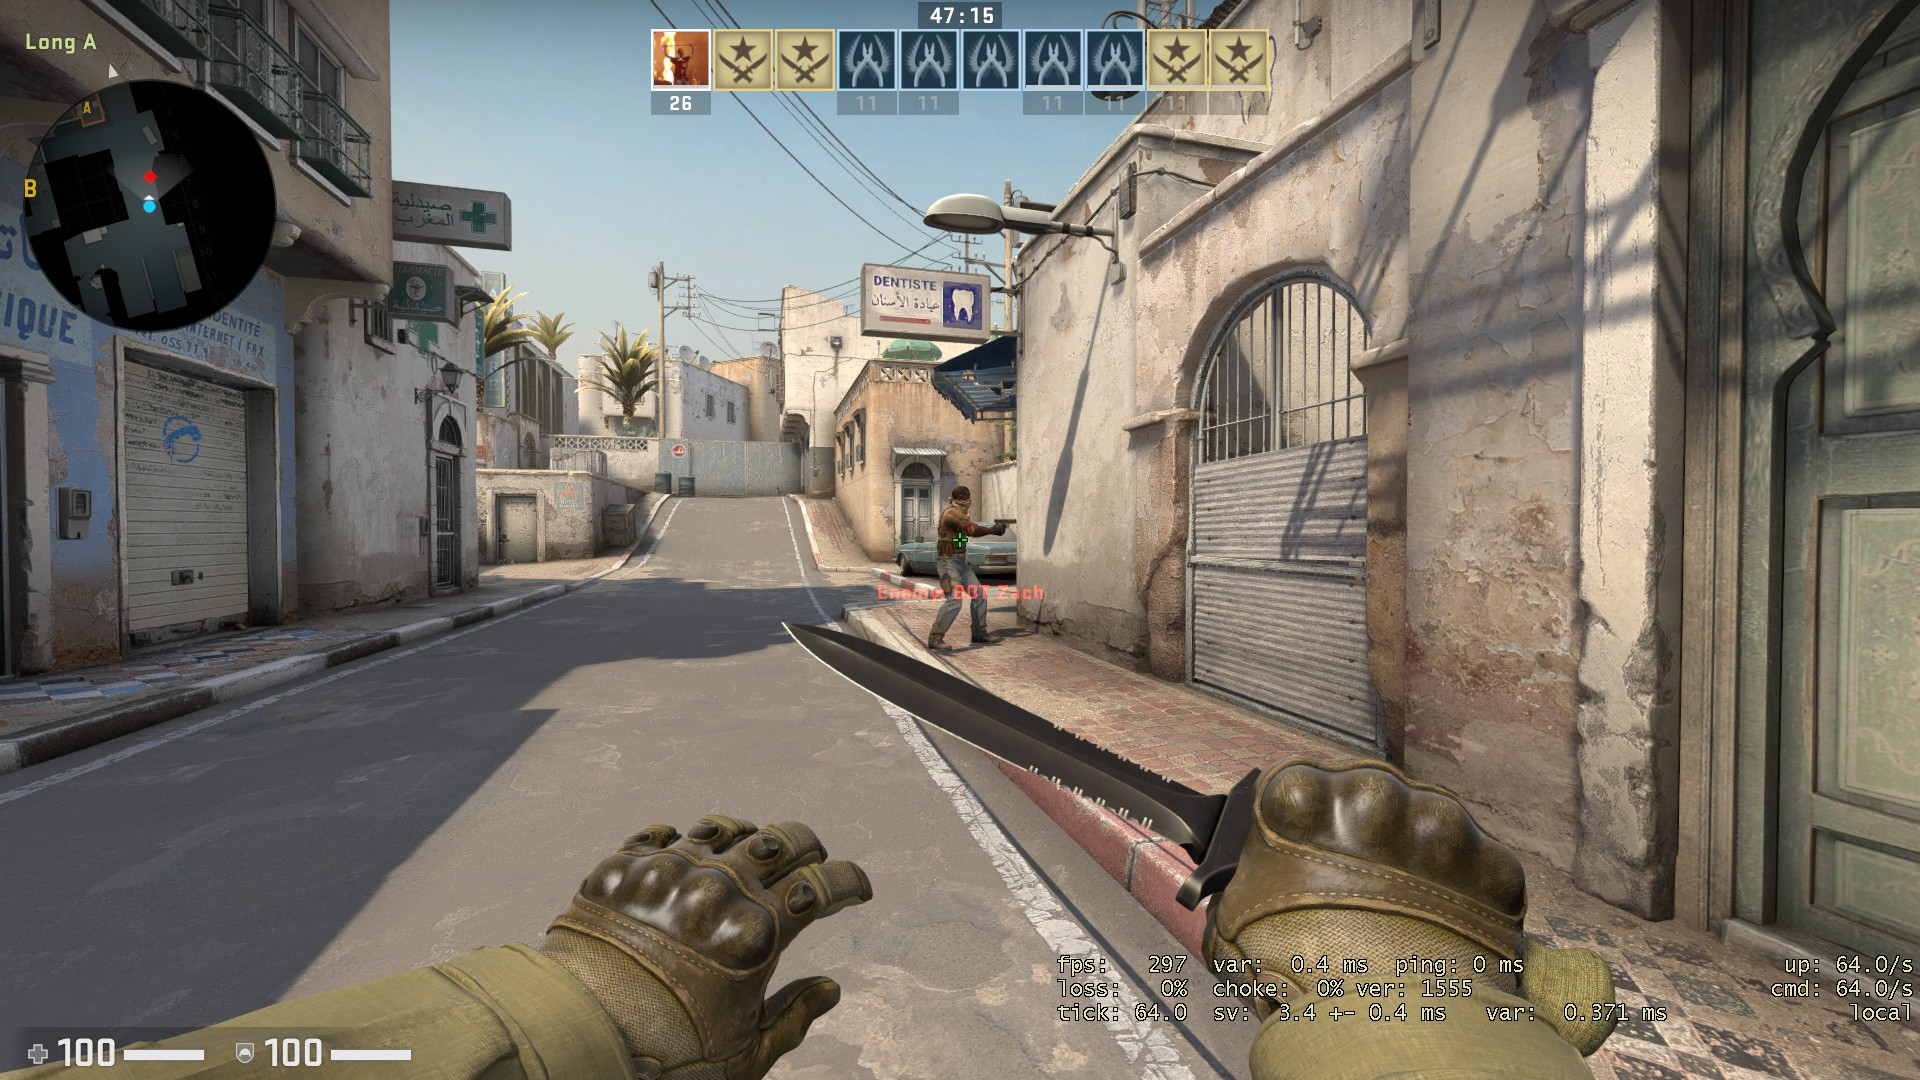player: (924, 481, 1020, 655)
